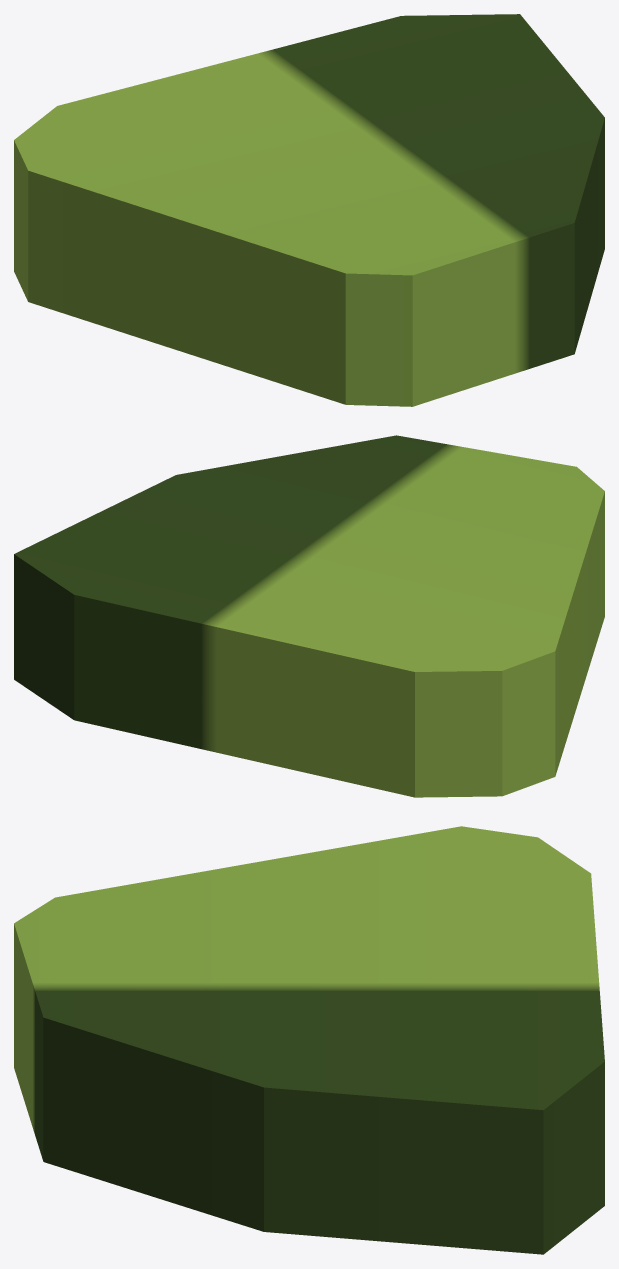
The model's file is Tile_06.fbx.
The picture shows the model from 3 angles, top to bottom: view 1: azimuth 30°, elevation 25°; view 2: azimuth 150°, elevation 25°; view 3: azimuth 270°, elevation 25°; orthographic projection. The views are drawn at different scales.
Visible parts, largest first — view 1: Tile_06; view 2: Tile_06; view 3: Tile_06.
Part boxes in pixels (left/top/right/bottom): Tile_06: left=14, top=14, right=604, bottom=406; Tile_06: left=14, top=435, right=604, bottom=797; Tile_06: left=14, top=826, right=604, bottom=1254.
Bounding box in the file's own units: 0.3873 × 0.0919 × 0.3407.
